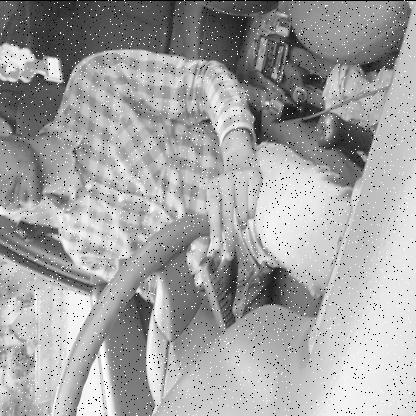no_seatbelt: (1, 95, 158, 263)
